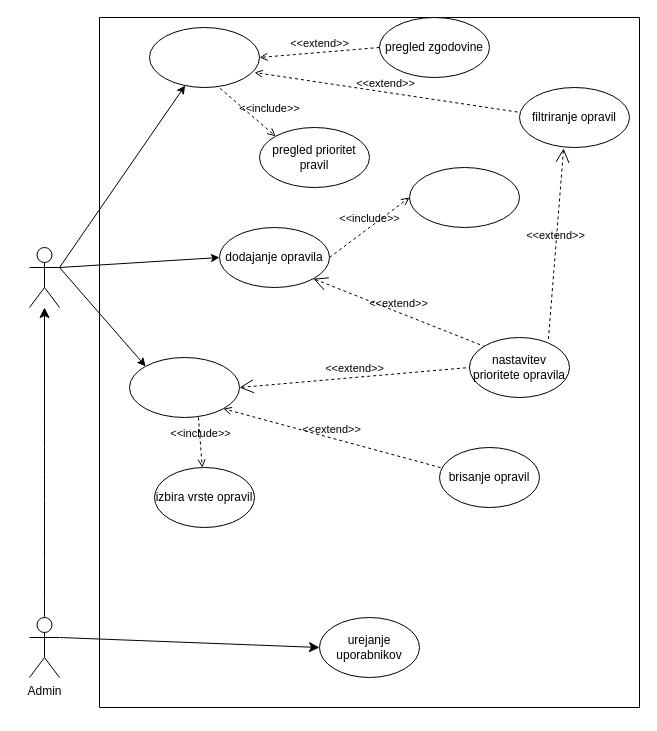
Some shapes in this 657 by 731 pixel diagram are drawn without their labels. Here are the shapes that lost their labels. From the top down, the centre of each, then its label:
At point 204,57: "pregled opravil".
At point 464,197: "nastavitev opomnikov".
At point 44,277: "Uporabnik".
At point 184,387: "urejanje opravil".
